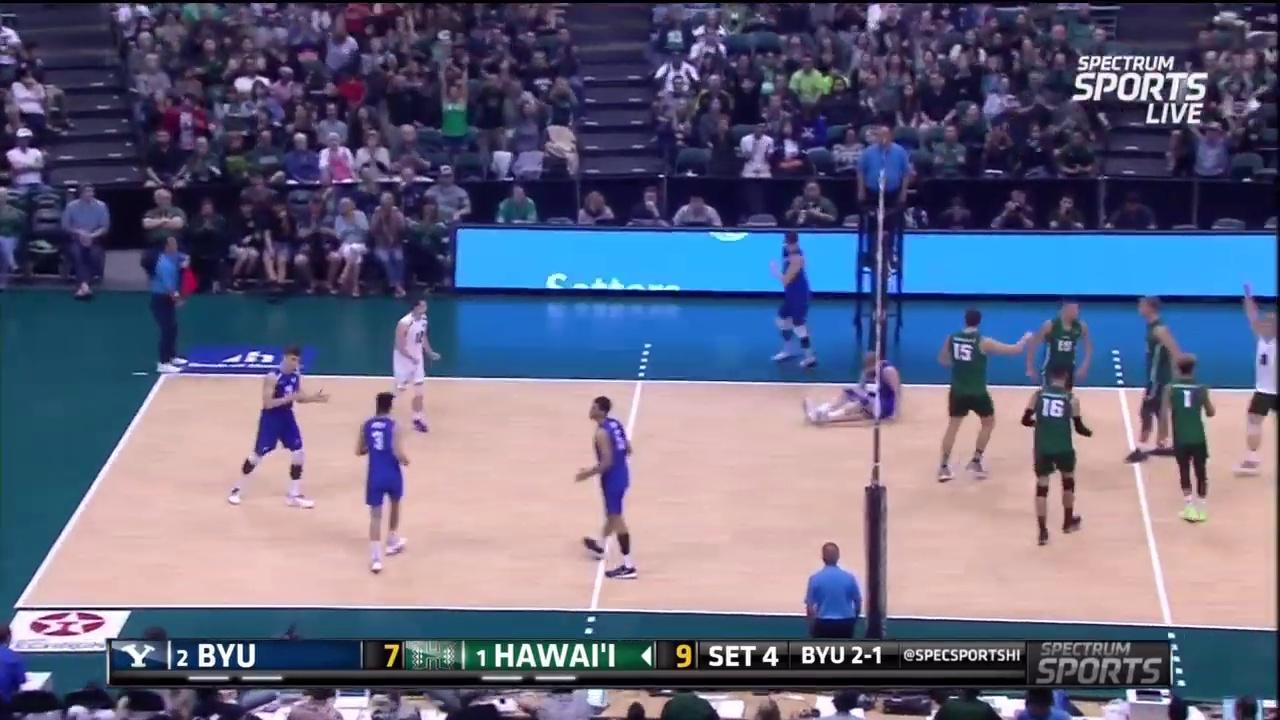player: (933, 301, 1041, 486), (1018, 367, 1094, 550), (1156, 351, 1225, 540), (233, 351, 316, 507), (571, 400, 637, 576), (1124, 295, 1189, 466), (1026, 296, 1096, 439), (358, 395, 414, 566), (1240, 271, 1280, 483), (771, 218, 824, 376), (807, 342, 899, 428), (386, 301, 439, 430)
refree: (853, 119, 914, 265), (794, 539, 866, 643), (146, 233, 190, 366)
